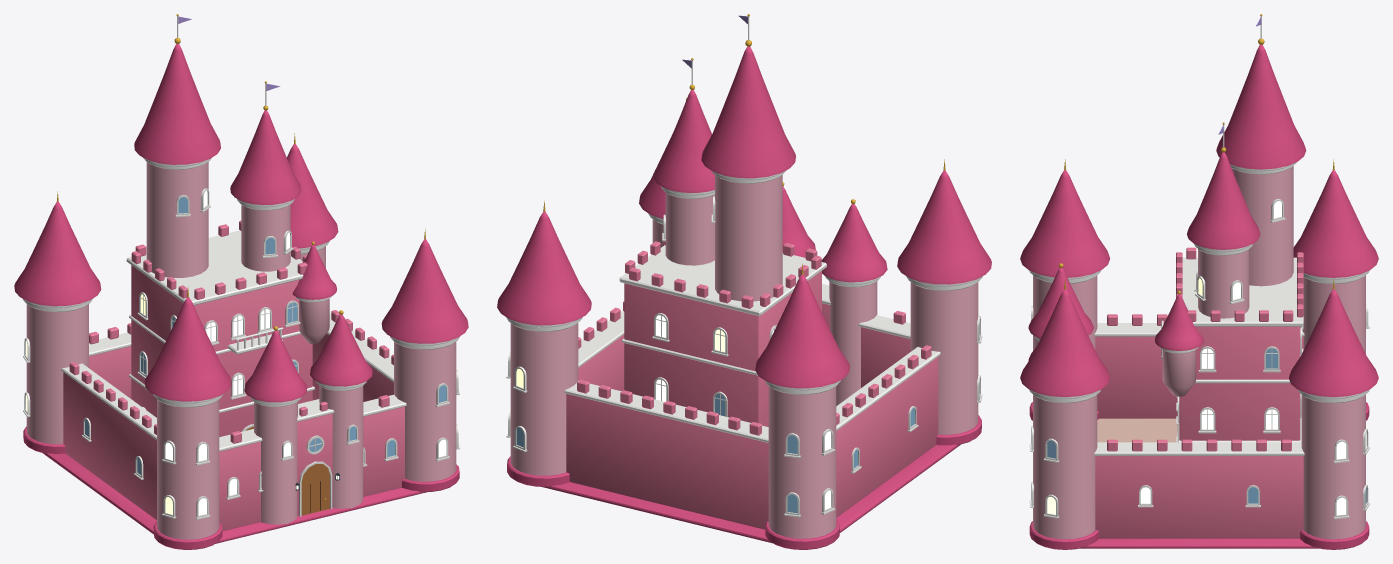
Rendered from castelo_rosa.glb.
3 renders of one model, left to right at view 1: azimuth 30°, elevation 25°; view 2: azimuth 150°, elevation 25°; view 3: azimuth 270°, elevation 25°, orthographic. The views are drawn at different scales.
Visible parts, largest first — view 1: castelo_rosa; view 2: castelo_rosa; view 3: castelo_rosa.
Part boxes in pixels (<box>): castelo_rosa: <box>14,14,468,549</box>; castelo_rosa: <box>497,14,991,549</box>; castelo_rosa: <box>1020,14,1378,549</box>.
Bounding box in the file's own units: 27.71 × 36.74 × 26.71.
Materials: 5 (1 with a texture image).
